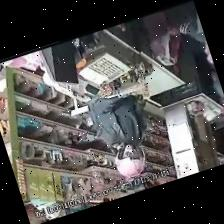person: (89, 95, 145, 176), (168, 1, 213, 65)
